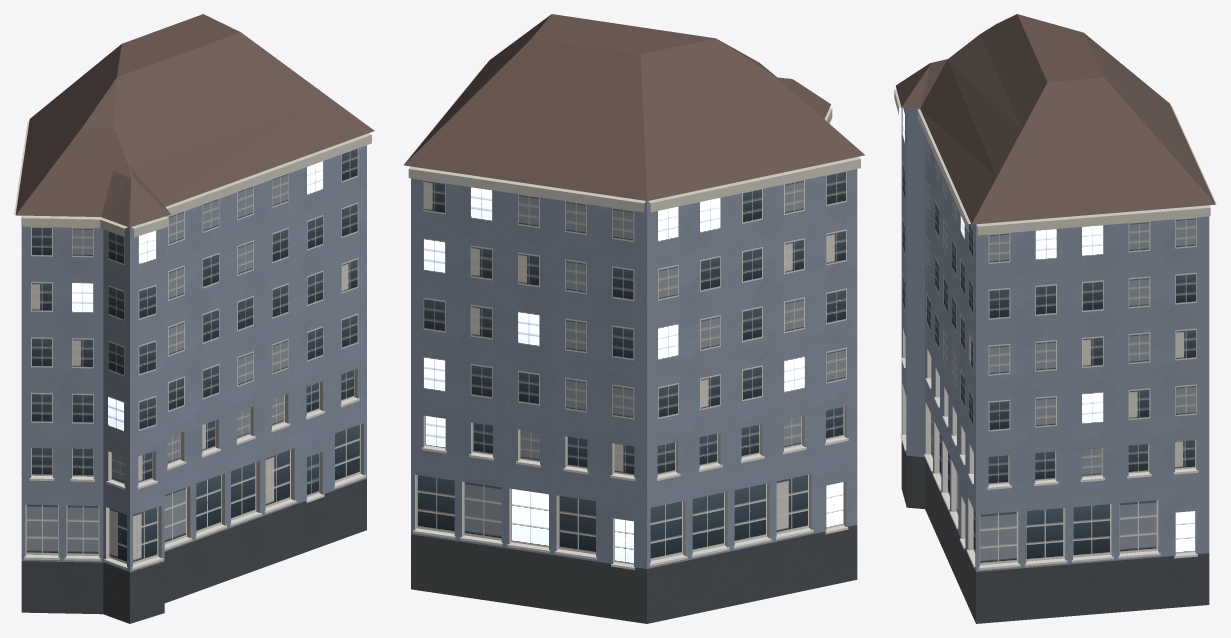
File: z3c_al_nw_blue.glb
The picture shows the model from 3 angles, left to right: view 1: azimuth 30°, elevation 25°; view 2: azimuth 150°, elevation 25°; view 3: azimuth 270°, elevation 25°; orthographic projection. The views are drawn at different scales.
Parts seen in each view (by area): view 1: z3c_al_nw_blue; view 2: z3c_al_nw_blue; view 3: z3c_al_nw_blue.
Boxes of the visible parts, box(x1,y1,x2,y2) form: z3c_al_nw_blue: box(14, 14, 374, 623); z3c_al_nw_blue: box(403, 14, 864, 623); z3c_al_nw_blue: box(894, 14, 1216, 623).
Size of the model in its own units: 21.74 by 28.76 by 16.9.
Materials: 3 (3 with a texture image).
